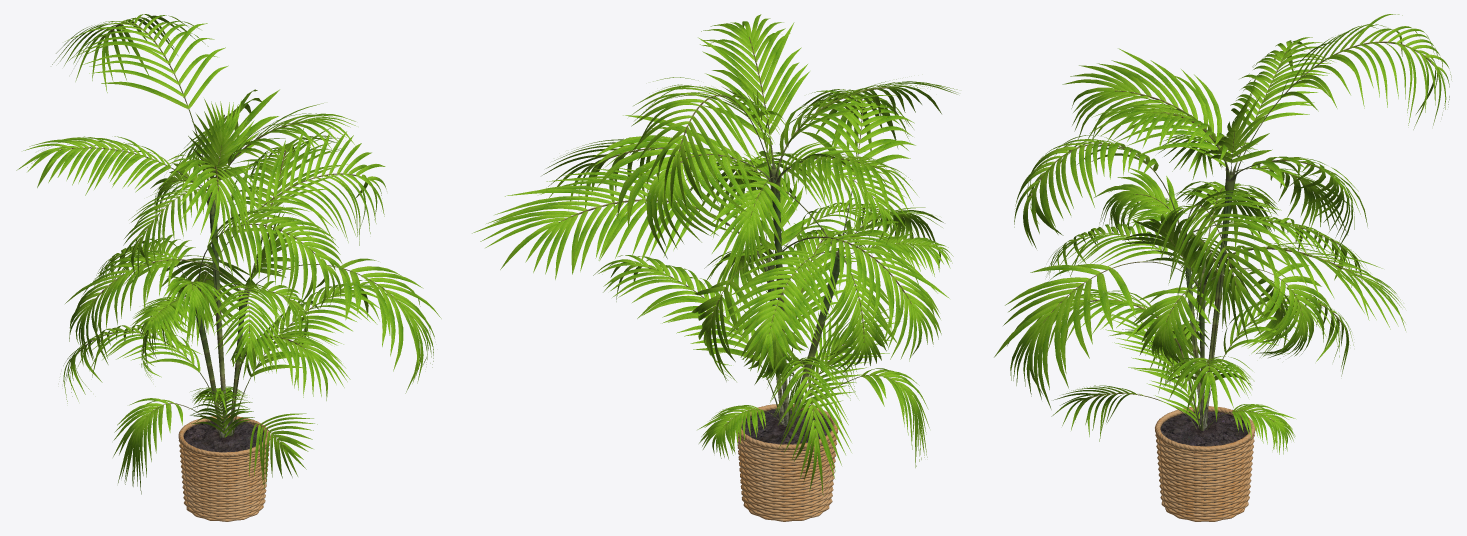
Rendered from asset.glb.
3 views of the same model, side by side, from view 1: azimuth 30°, elevation 25°; view 2: azimuth 150°, elevation 25°; view 3: azimuth 270°, elevation 25° (orthographic). The views are drawn at different scales.
Visible parts, largest first — view 1: dirt; view 2: dirt; view 3: dirt.
Boxes of the visible parts, x1,y1,x2,y2 form: dirt: (16, 14, 441, 521); dirt: (472, 14, 957, 521); dirt: (994, 14, 1451, 521).
Bounding box in the file's own units: 22 × 25.01 × 22.28.
Materials: 6 (5 with a texture image).
